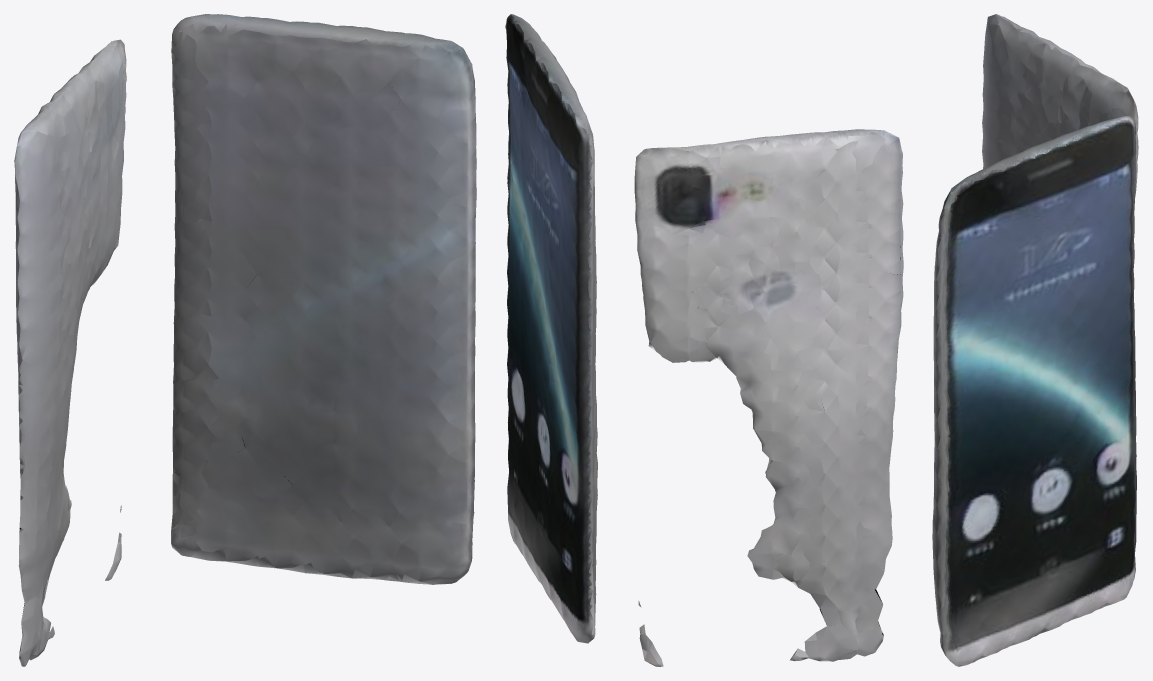
3 views of the same model, side by side, from view 1: azimuth 30°, elevation 25°; view 2: azimuth 150°, elevation 25°; view 3: azimuth 270°, elevation 25° (orthographic). The views are drawn at different scales.
Parts seen in each view (by area): view 1: world; view 2: world; view 3: world.
Boxes of the visible parts, box(x1,y1,x2,y2) form: world: box(14, 14, 476, 666); world: box(505, 14, 903, 666); world: box(932, 14, 1138, 666).
Bounding box in the file's own units: 0.6238 × 0.762 × 0.2881.
1 material, 1 textured.
